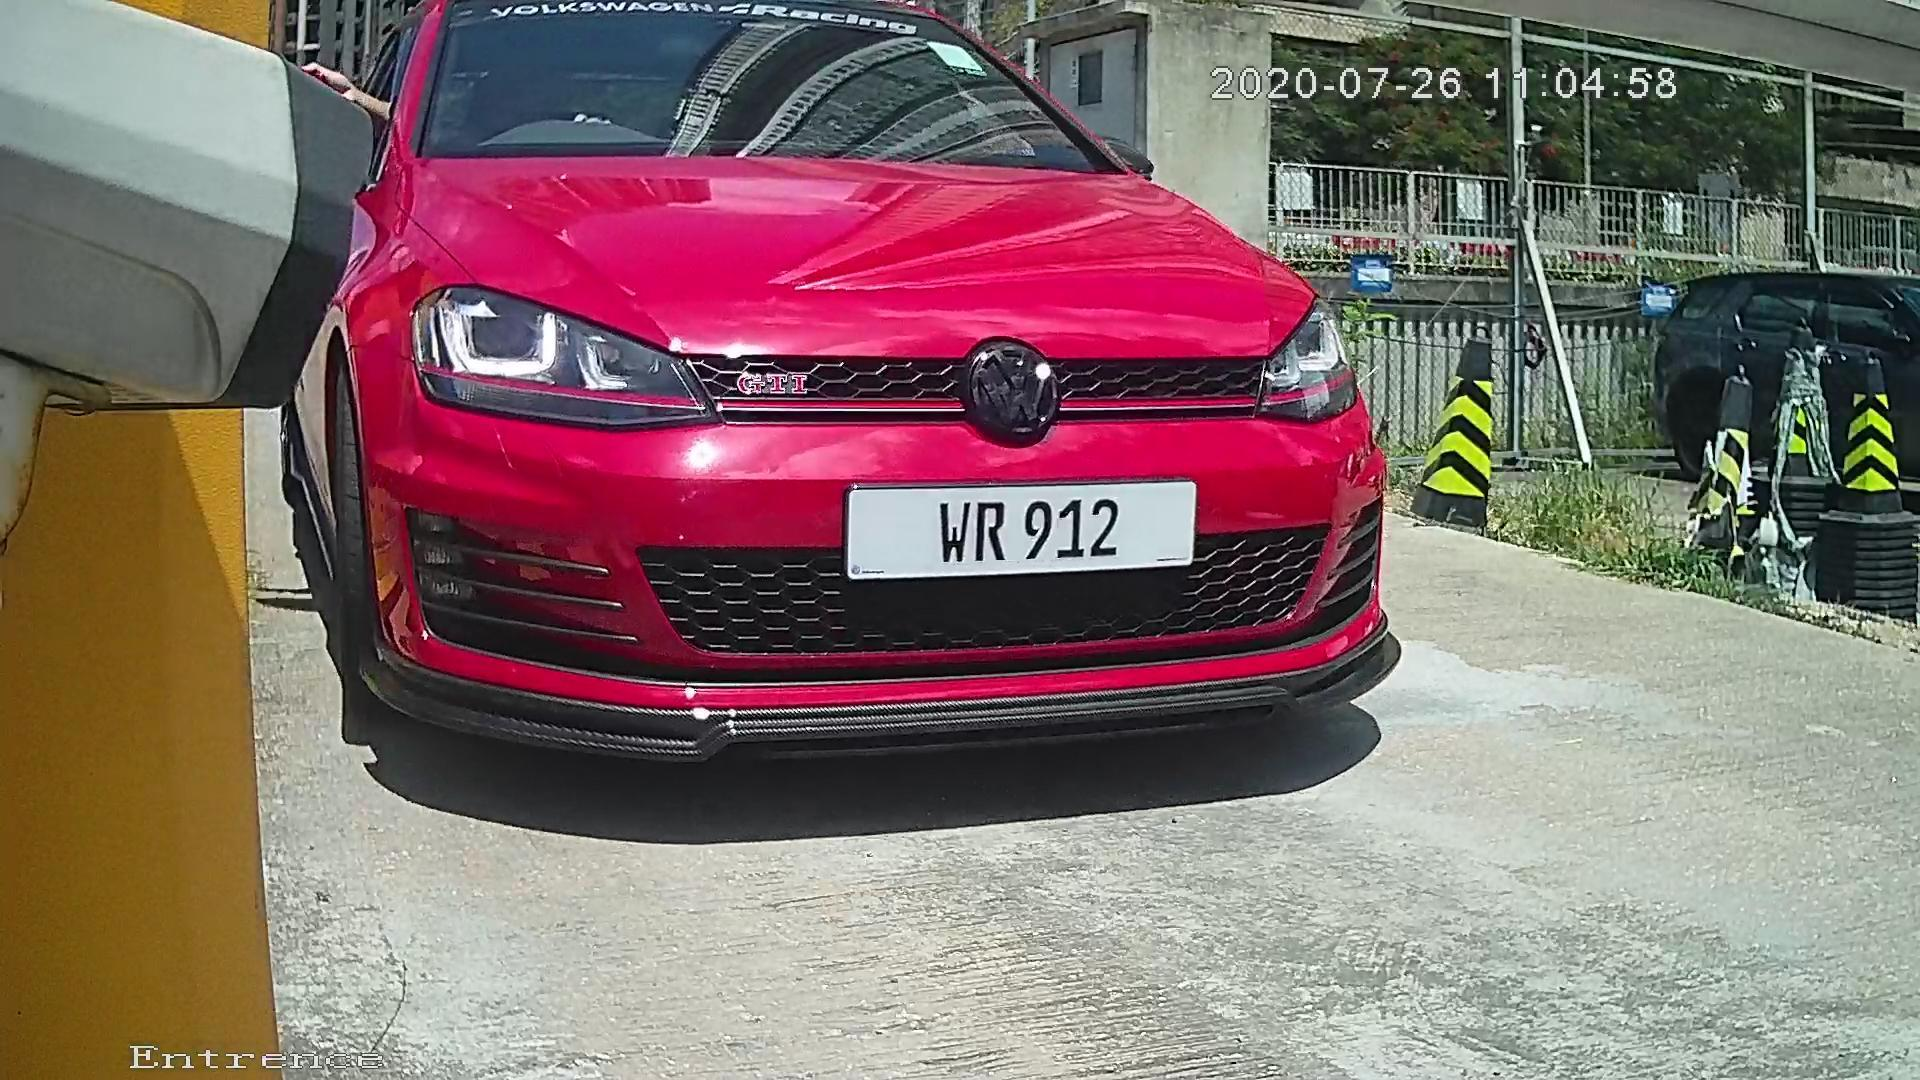privatecar: (215, 20, 1484, 825)
